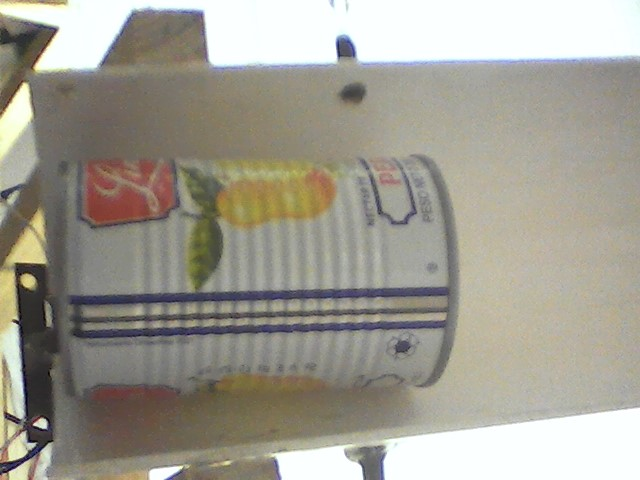lata: (53, 147, 470, 410)
